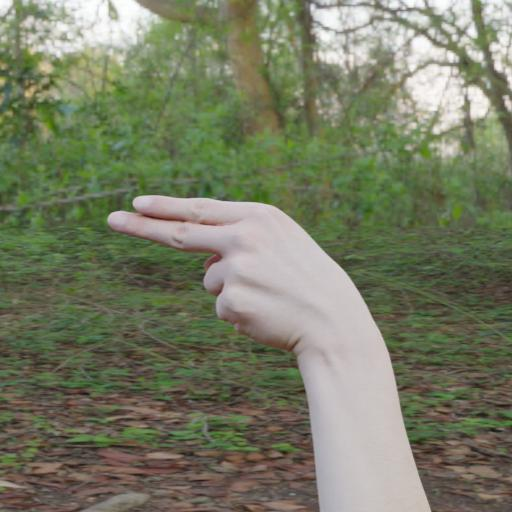H: (102, 188, 378, 360)
